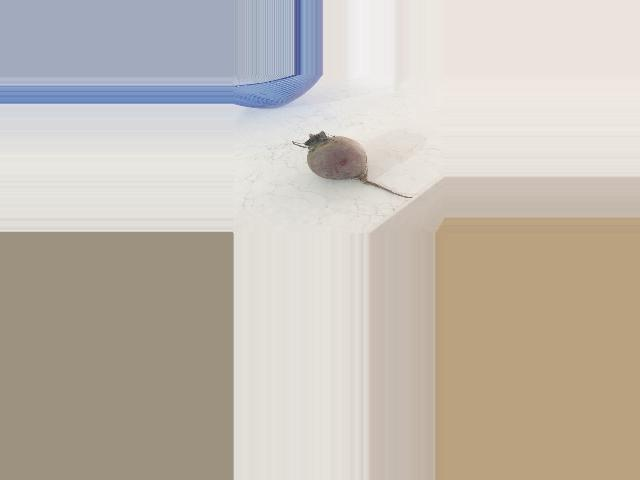beet: (293, 131, 412, 199)
